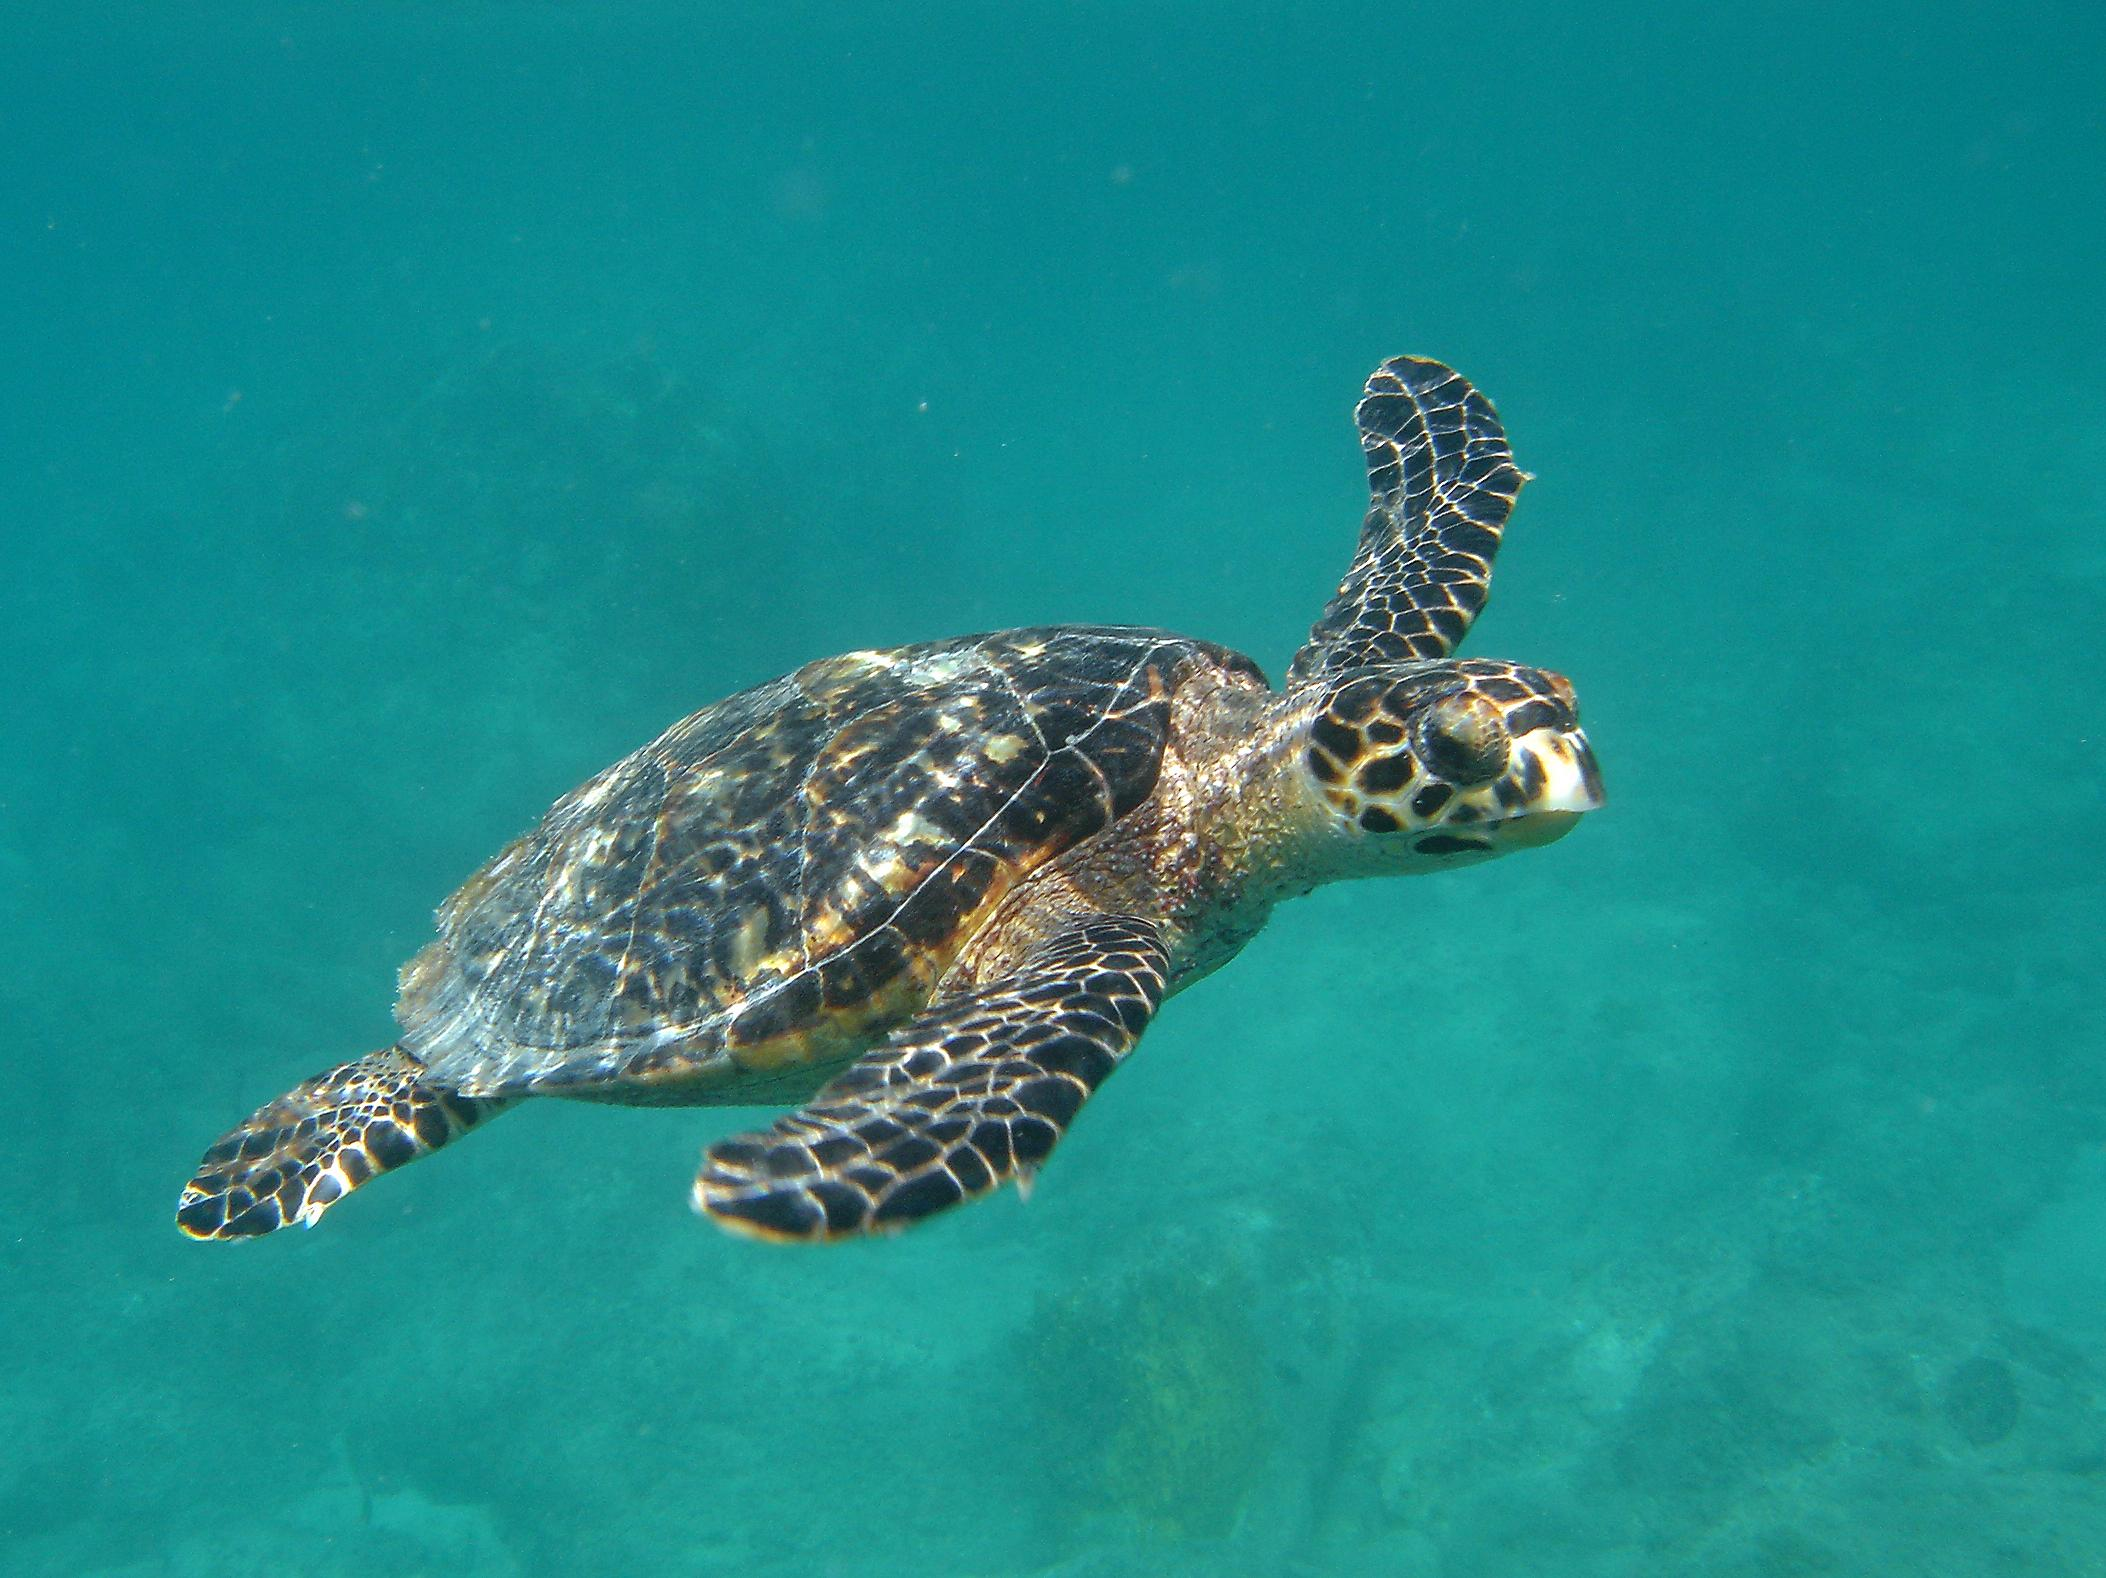turtle: (1281, 641, 1622, 893)
